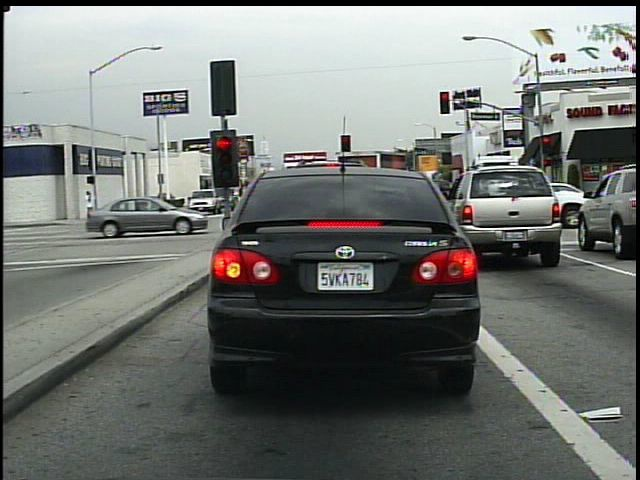person: (80, 189, 102, 222)
